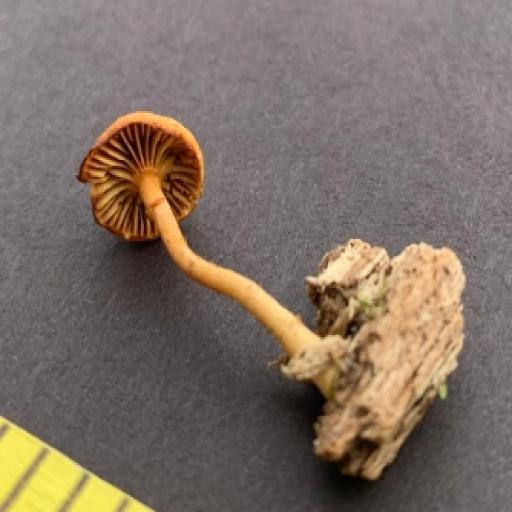mushroom: (68, 94, 274, 351)
